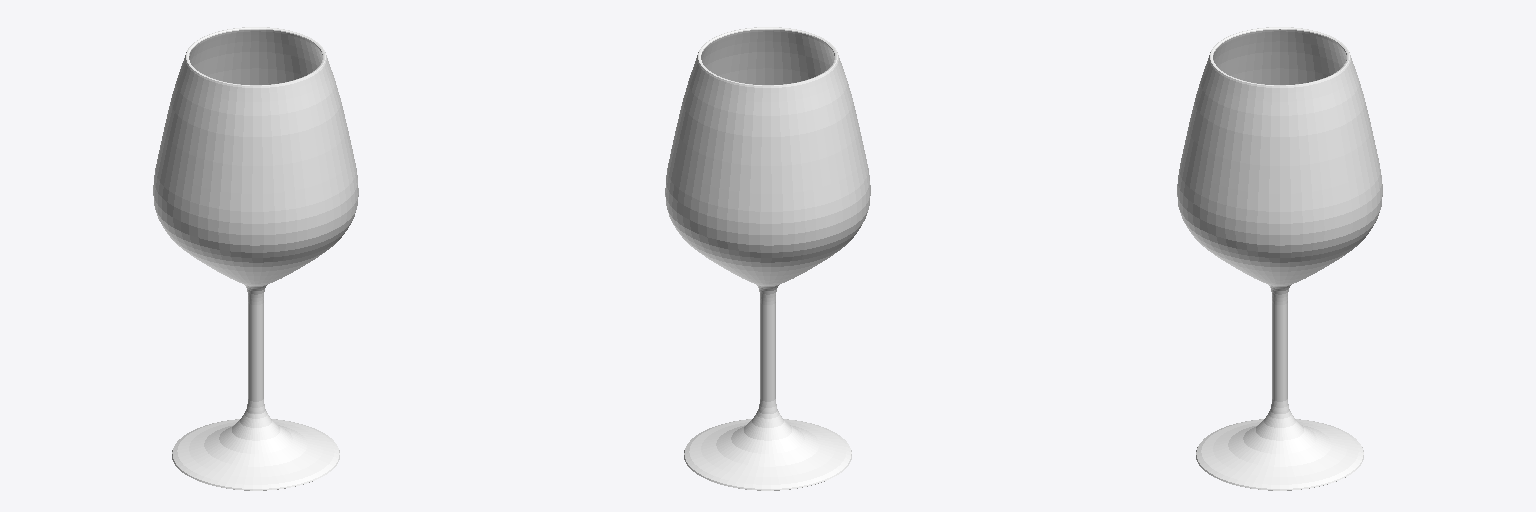
The model's file is glass_for_wine.obj.
3 views of the same model, side by side, from view 1: azimuth 30°, elevation 25°; view 2: azimuth 150°, elevation 25°; view 3: azimuth 270°, elevation 25° (orthographic).
Visible parts, largest first — view 1: glass; view 2: glass; view 3: glass.
Part boxes in pixels (x1,y1,x2,y2): glass: (153, 27, 358, 490); glass: (665, 27, 870, 490); glass: (1177, 27, 1382, 490).
Bounding box in the file's own units: 4.79 × 10.24 × 4.79.